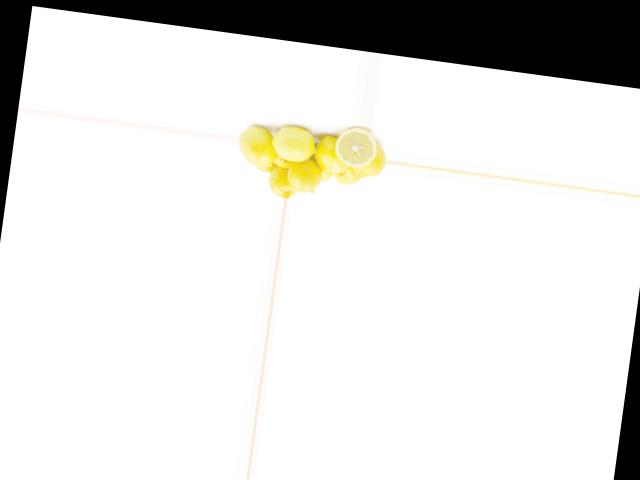lemon: (350, 141, 385, 178)
